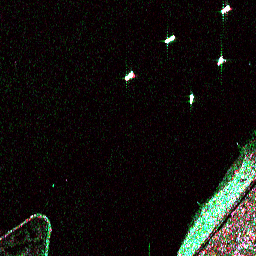ship: (162, 33, 178, 46), (219, 3, 233, 16), (123, 70, 136, 83), (215, 54, 226, 67), (187, 93, 195, 104)
